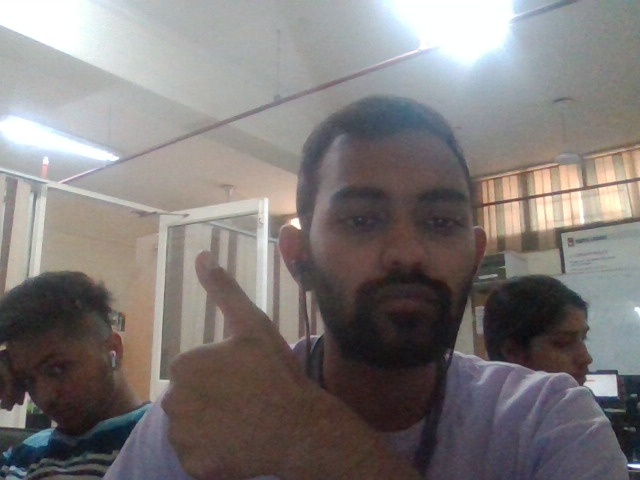Yes: (158, 250, 321, 480)
